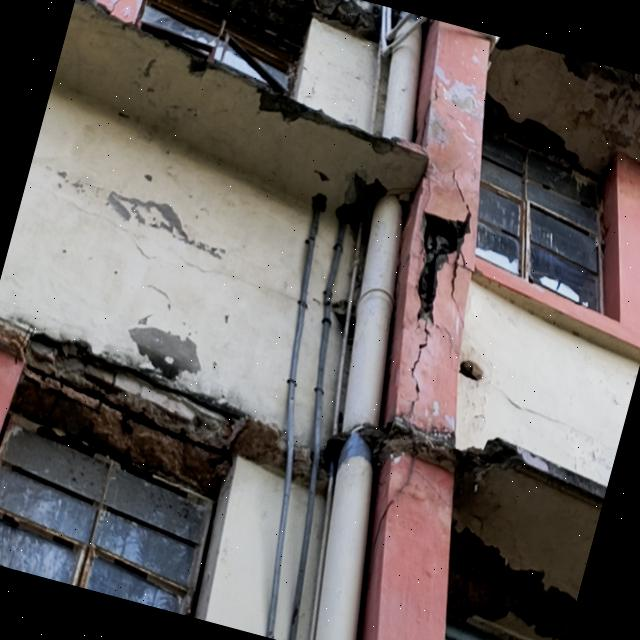crack: (403, 321, 437, 432), (447, 238, 474, 328), (448, 161, 475, 231), (419, 82, 443, 155), (417, 177, 436, 212)
peeling: (434, 49, 486, 127)
spalling: (0, 316, 332, 501), (134, 25, 426, 175), (445, 512, 579, 640), (197, 0, 400, 50), (483, 93, 593, 174), (498, 38, 640, 90), (408, 432, 527, 487), (417, 214, 469, 320), (335, 173, 386, 228)
stain_mould: (525, 454, 605, 506)
